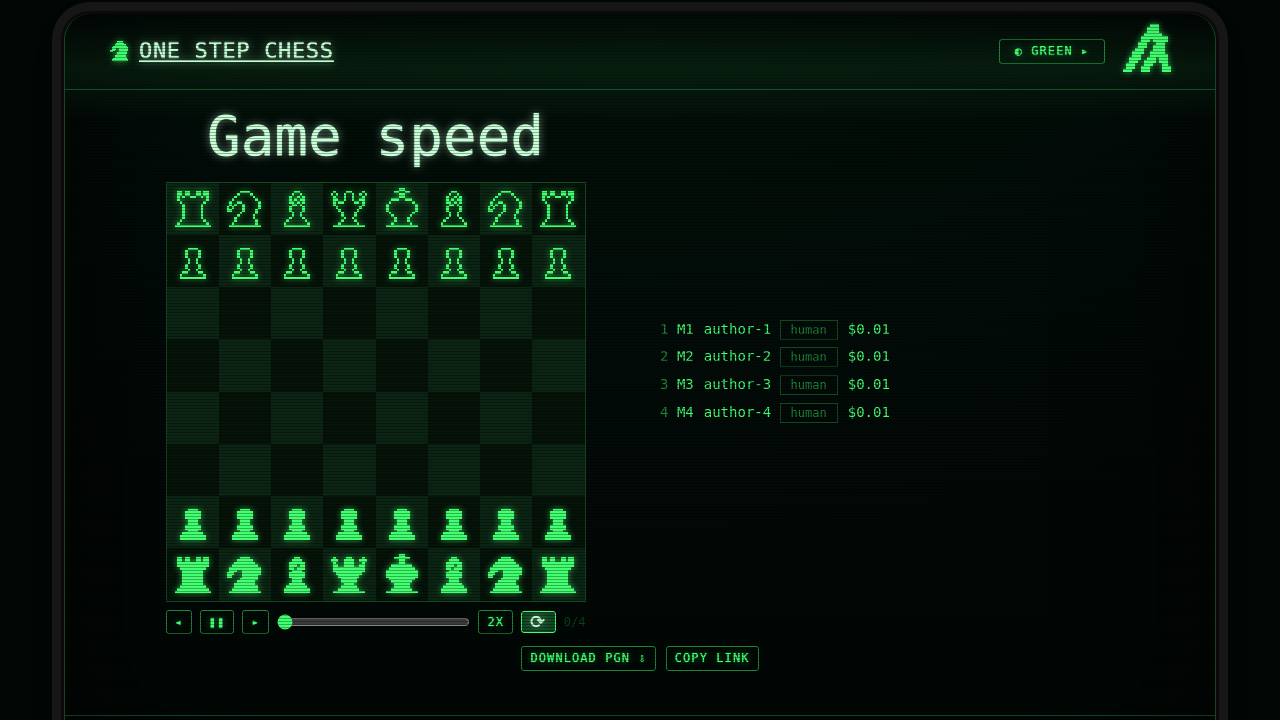
Test: replay_speed_cycles_from_2x_to_0.5x_to_1x_and_back
Click the button named "replay speed 2x" at (496, 622), box [478,610,513,634]
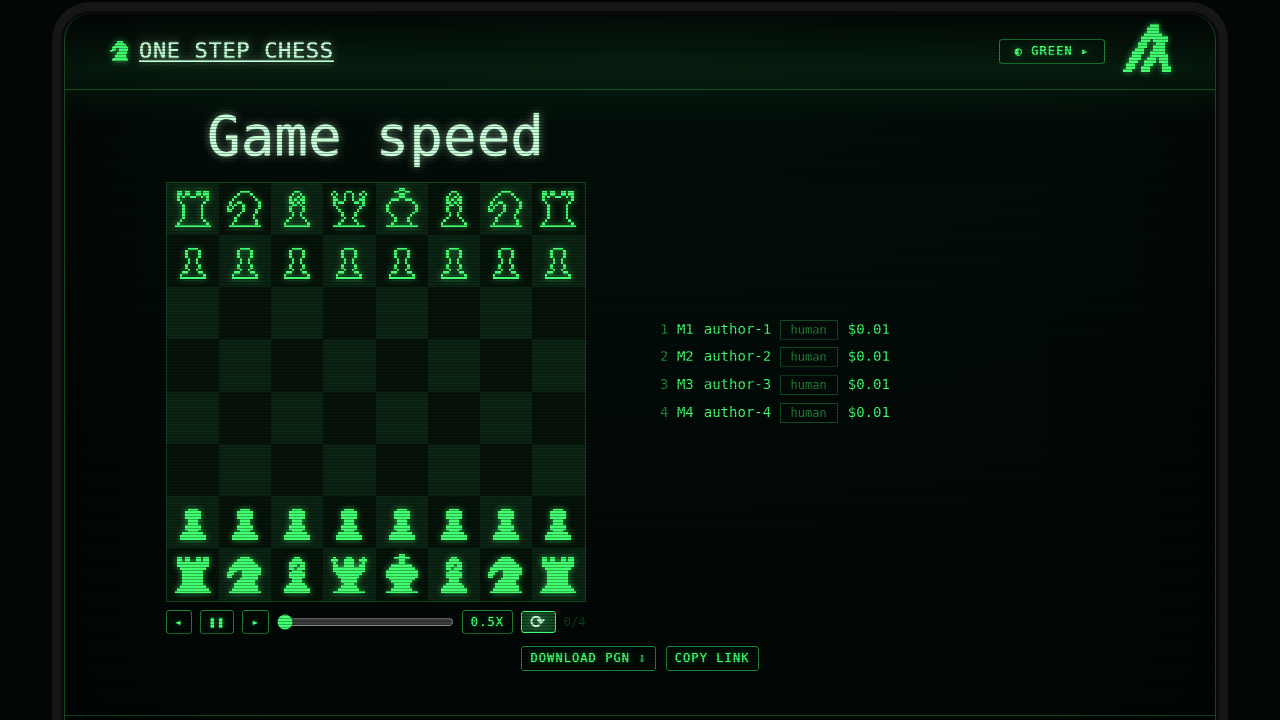
Check: the button named "replay speed 0.5x" reads "0.5x"
Click the button named "replay speed 0.5x" at (488, 622), box [462,610,513,634]
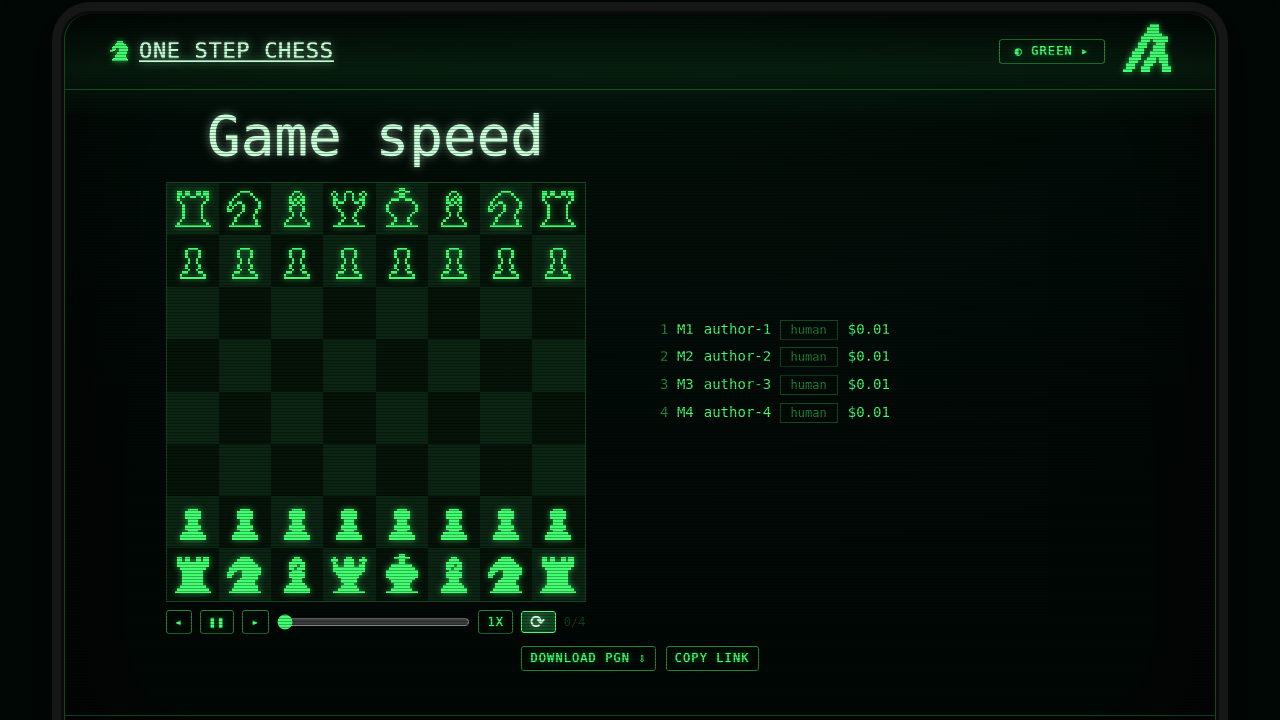
Check: the button named "replay speed 1x" reads "1x"
Click the button named "replay speed 1x" at (496, 622), box [478,610,513,634]
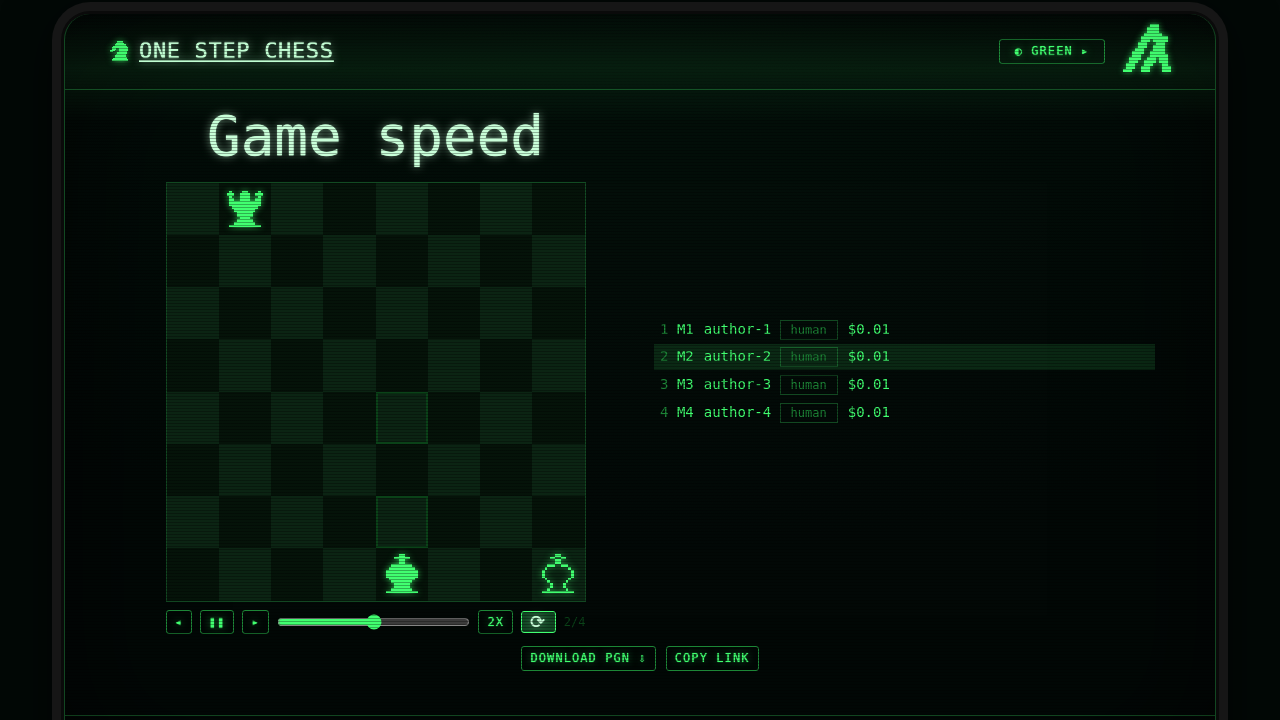
Check: the button named "replay speed 2x" reads "2x", box [478,610,513,634]
